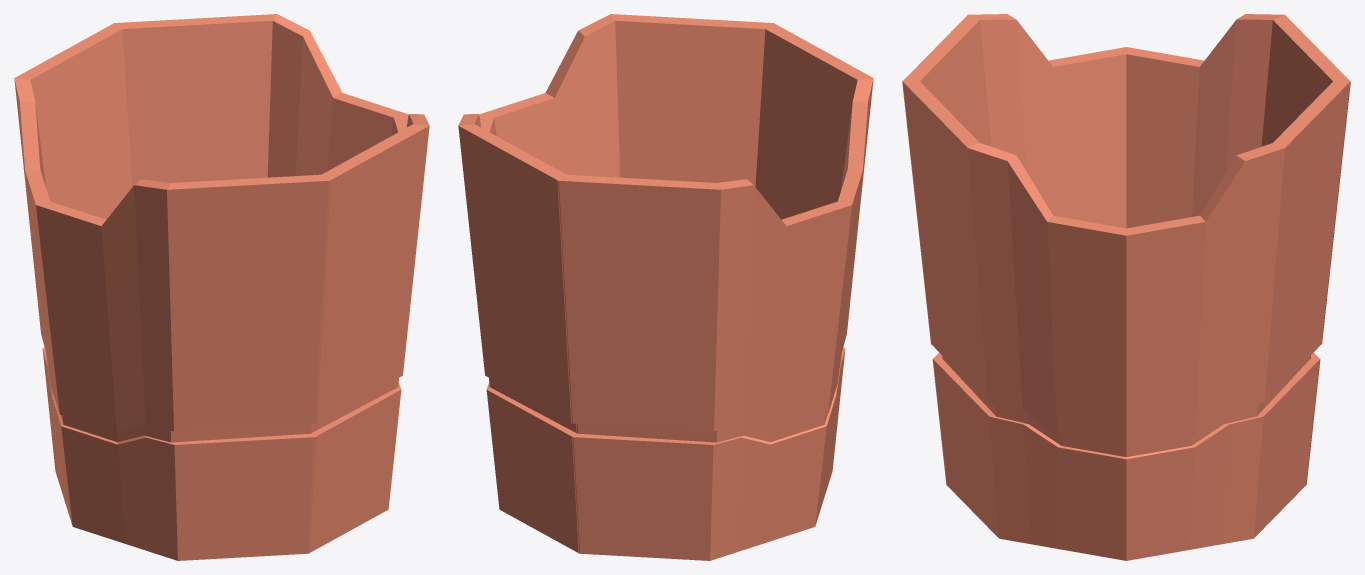
File: bucket.fbx
The picture shows the model from 3 angles, left to right: view 1: azimuth 30°, elevation 25°; view 2: azimuth 150°, elevation 25°; view 3: azimuth 270°, elevation 25°; orthographic projection. The views are drawn at different scales.
Parts seen in each view (by area): view 1: bucket; view 2: bucket; view 3: bucket.
Part boxes in pixels (x1,y1,x2,y2): bucket: (14, 14, 429, 560); bucket: (458, 14, 873, 560); bucket: (902, 14, 1350, 560).
Size of the model in its own units: 60.21 by 60.06 by 60.46.
